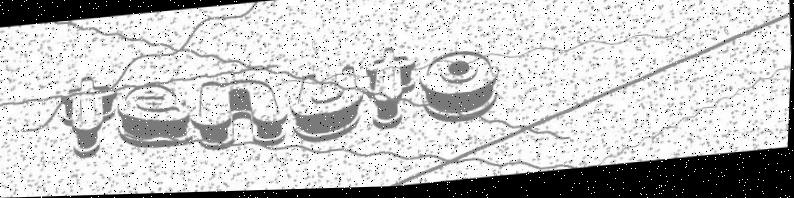e: (116, 80, 197, 155)
n: (191, 72, 293, 156)
o: (416, 46, 502, 128)
t: (361, 45, 421, 136), (59, 73, 122, 158)
u: (288, 65, 367, 146)
